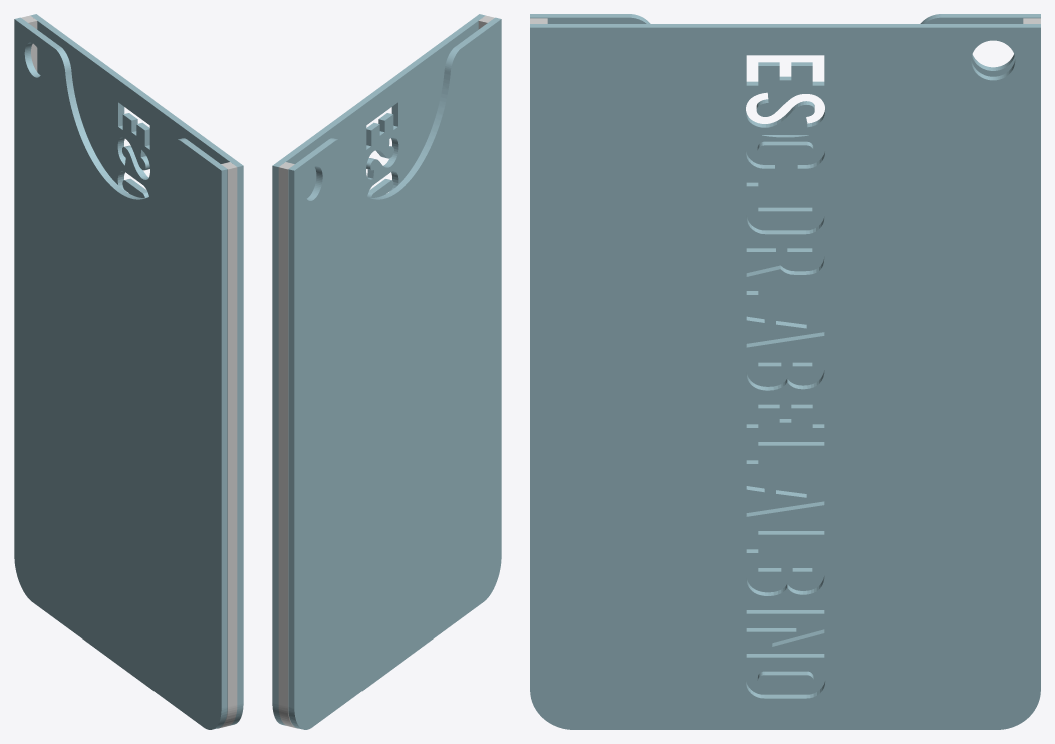
File: Tarjeta Sube Holder.glb
The picture shows the model from 3 angles, left to right: view 1: azimuth 30°, elevation 25°; view 2: azimuth 150°, elevation 25°; view 3: azimuth 270°, elevation 25°; orthographic projection. The views are drawn at different scales.
Visible parts, largest first — view 1: Mesh_Mesh_head_geo001_lambert2SG001; view 2: Mesh_Mesh_head_geo001_lambert2SG001; view 3: Mesh_Mesh_head_geo001_lambert2SG001.
Boxes of the visible parts, x1,y1,x2,y2 form: Mesh_Mesh_head_geo001_lambert2SG001: [14, 14, 243, 729]; Mesh_Mesh_head_geo001_lambert2SG001: [272, 14, 501, 729]; Mesh_Mesh_head_geo001_lambert2SG001: [530, 14, 1040, 729].
Bounding box in the file's own units: 3.55 × 88.1 × 58.
